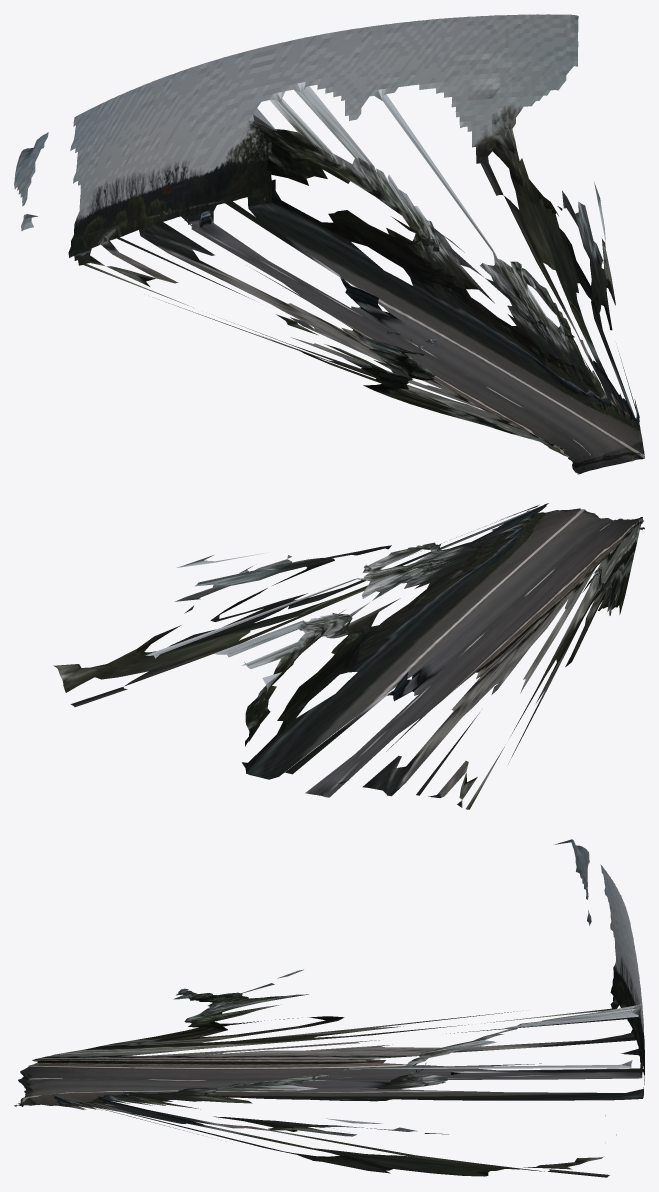
3 views of the same model, one above another, from view 1: azimuth 30°, elevation 25°; view 2: azimuth 150°, elevation 25°; view 3: azimuth 270°, elevation 25° (orthographic). The views are drawn at different scales.
Visible parts, largest first — view 1: defaultobject; view 2: defaultobject; view 3: defaultobject.
Boxes of the visible parts, <box> form: defaultobject: <box>14,14,644,474</box>; defaultobject: <box>53,503,644,809</box>; defaultobject: <box>14,839,644,1177</box>.
Bounding box in the file's own units: 40.88 × 11.78 × 44.73.
1 material, 1 textured.
